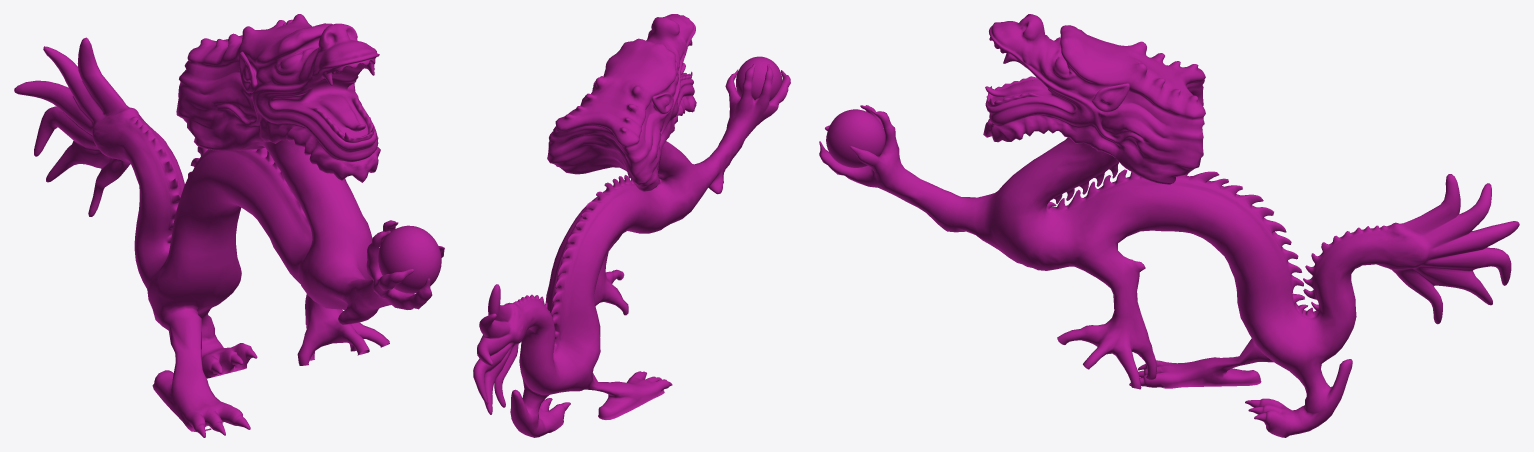
File: dragon2.obj
The picture shows the model from 3 angles, left to right: view 1: azimuth 30°, elevation 25°; view 2: azimuth 150°, elevation 25°; view 3: azimuth 270°, elevation 25°; orthographic projection. The views are drawn at different scales.
Parts seen in each view (by area): view 1: Archmodels_64_01, Object01; view 2: Archmodels_64_01, Object01; view 3: Archmodels_64_01, Object01.
Boxes of the visible parts, bbox=[...] form: Archmodels_64_01: bbox=[14, 14, 444, 437]; Object01: bbox=[378, 225, 441, 293]; Archmodels_64_01: bbox=[473, 14, 790, 437]; Object01: bbox=[736, 56, 782, 101]; Archmodels_64_01: bbox=[819, 14, 1519, 437]; Object01: bbox=[826, 109, 885, 167].
Size of the model in its own units: 336 by 938 by 1472.
